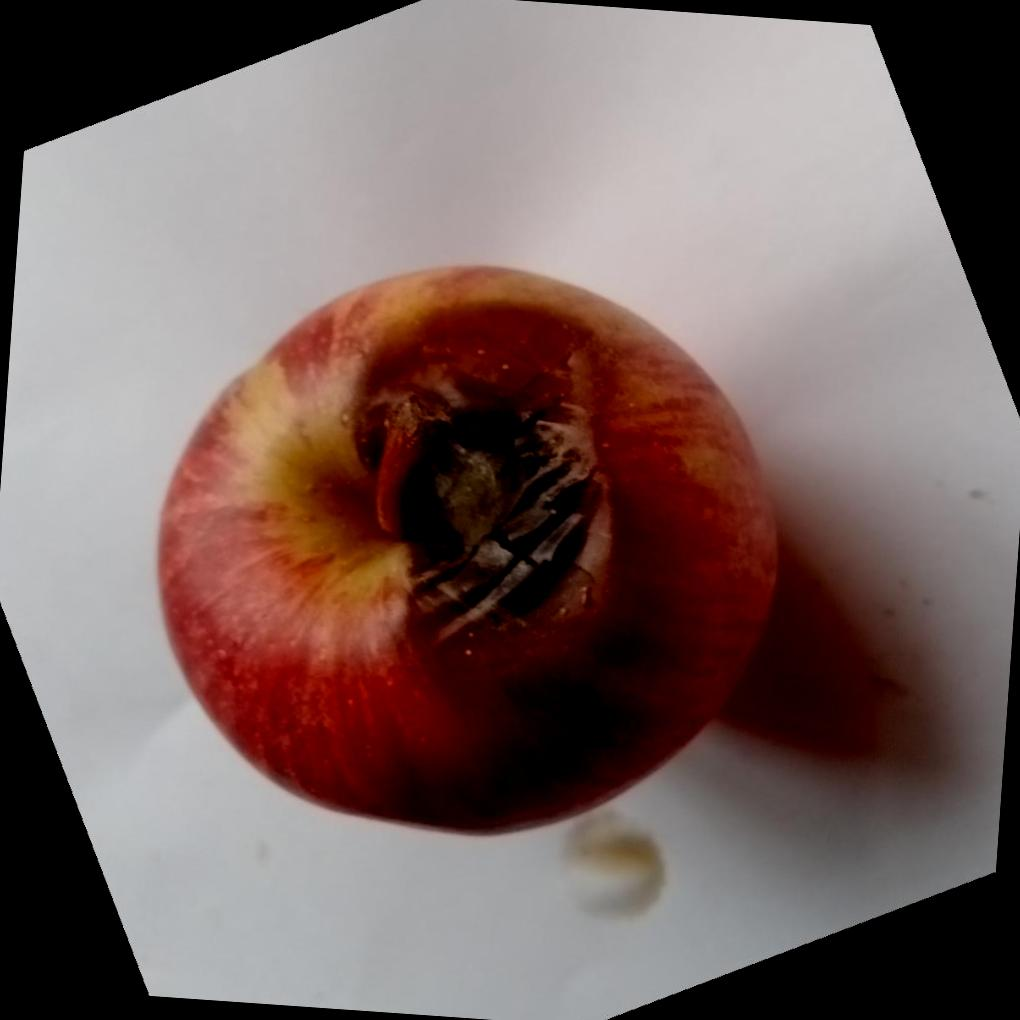FreshOrange: (157, 261, 786, 838)
